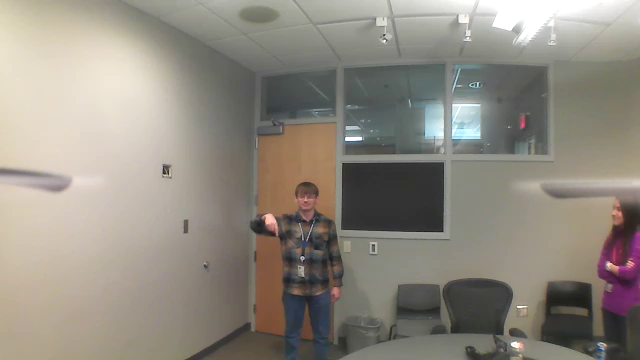down: (261, 211, 281, 239)
